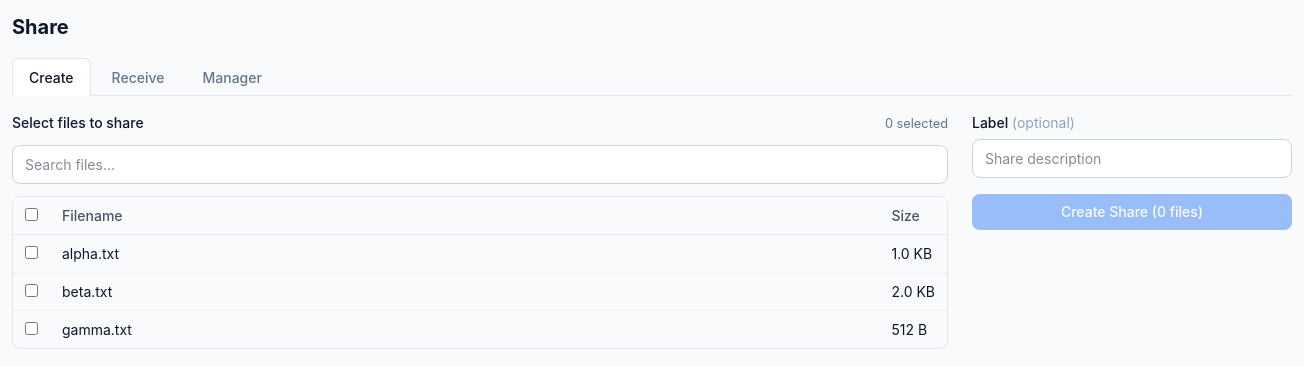
it: Share page — row / checkbox selection › clicking a row selects it
Expected: the text "alpha.txt" is shown, [50,235,879,273]
Click the row "alpha.txt 1.0 KB".
click(480, 254)  # box [13,235,947,273]
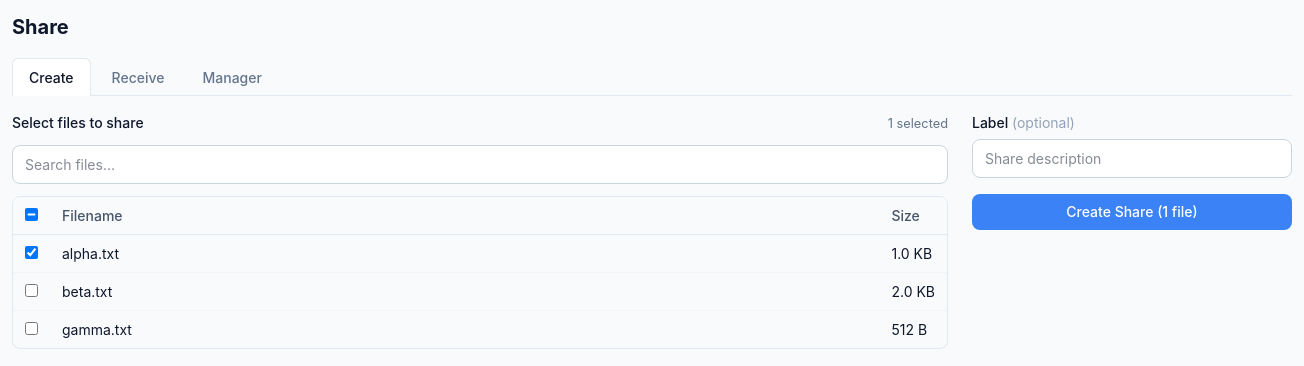
Expected: the text "1 selected" is shown, [888,114,948,133]
